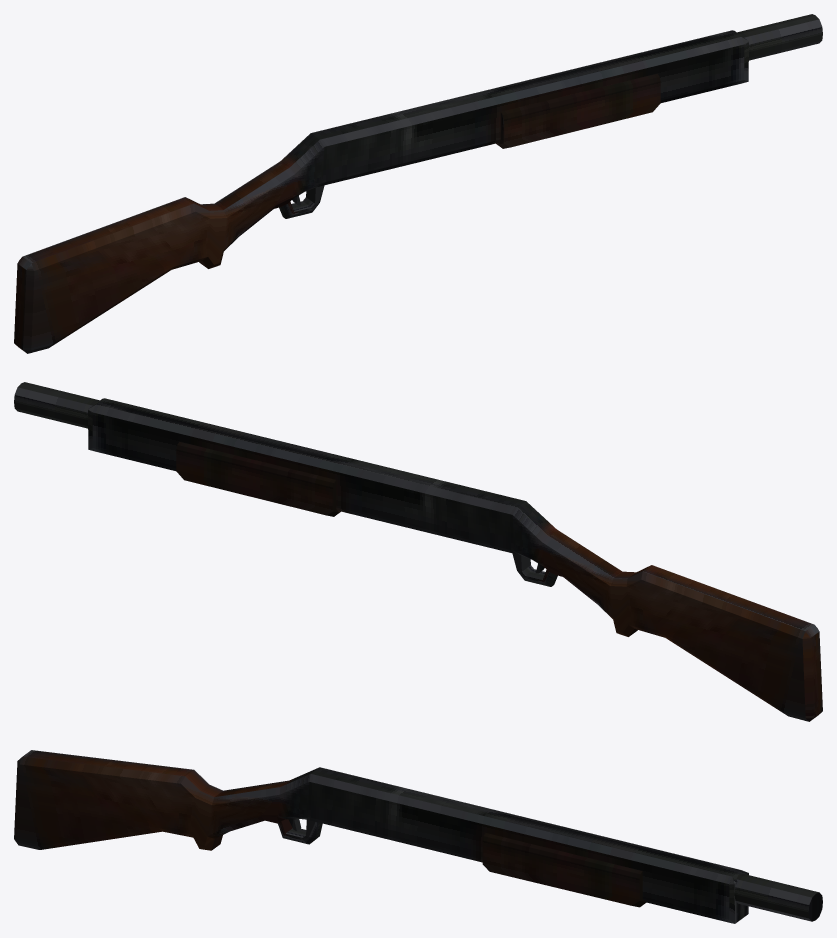
The model's file is shop-shotgun.glb.
The picture shows the model from 3 angles, top to bottom: view 1: azimuth 30°, elevation 25°; view 2: azimuth 150°, elevation 25°; view 3: azimuth 330°, elevation 25°; orthographic projection.
Parts seen in each view (by area): view 1: shotgun_1; view 2: shotgun_1; view 3: shotgun_1.
Boxes of the visible parts, box(x1,y1,x2,y2) form: shotgun_1: box(14, 14, 822, 353); shotgun_1: box(14, 382, 822, 721); shotgun_1: box(14, 750, 822, 923).
Bounding box in the file's own units: 1.44 × 0.2461 × 0.0655.
Materials: 1 (1 with a texture image).
